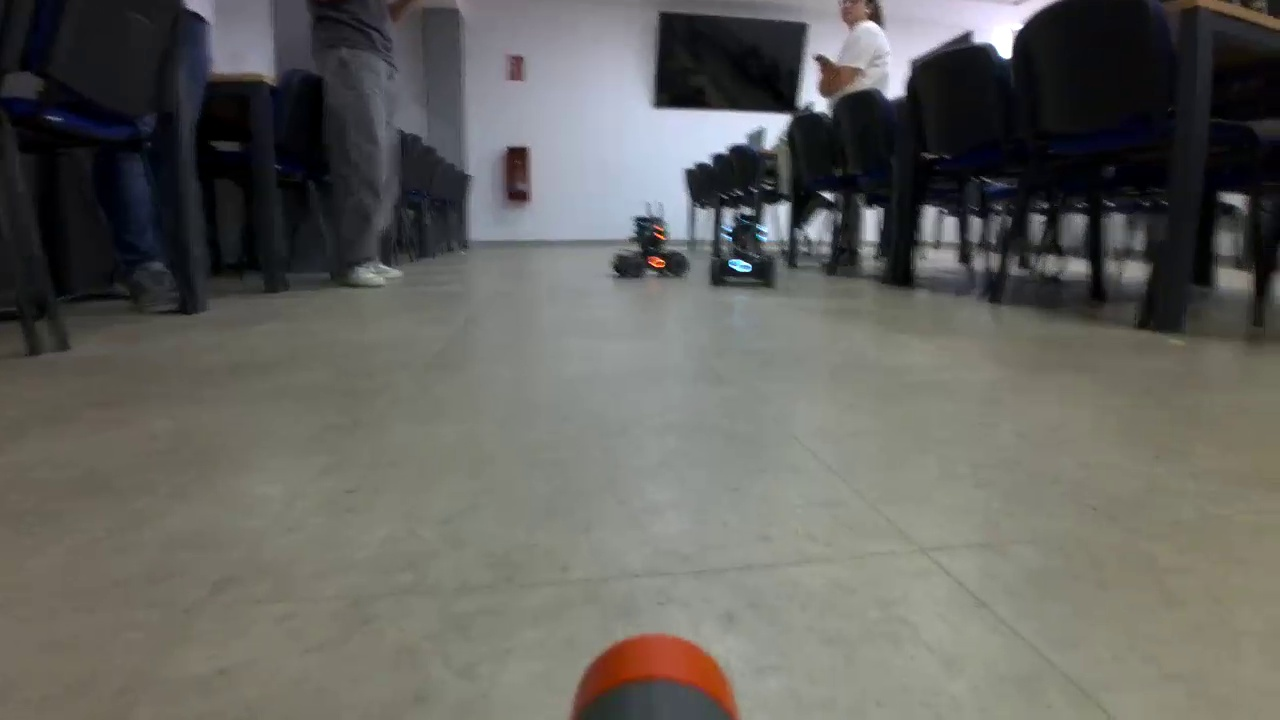robot: (613, 215, 689, 280), (709, 218, 777, 289)
